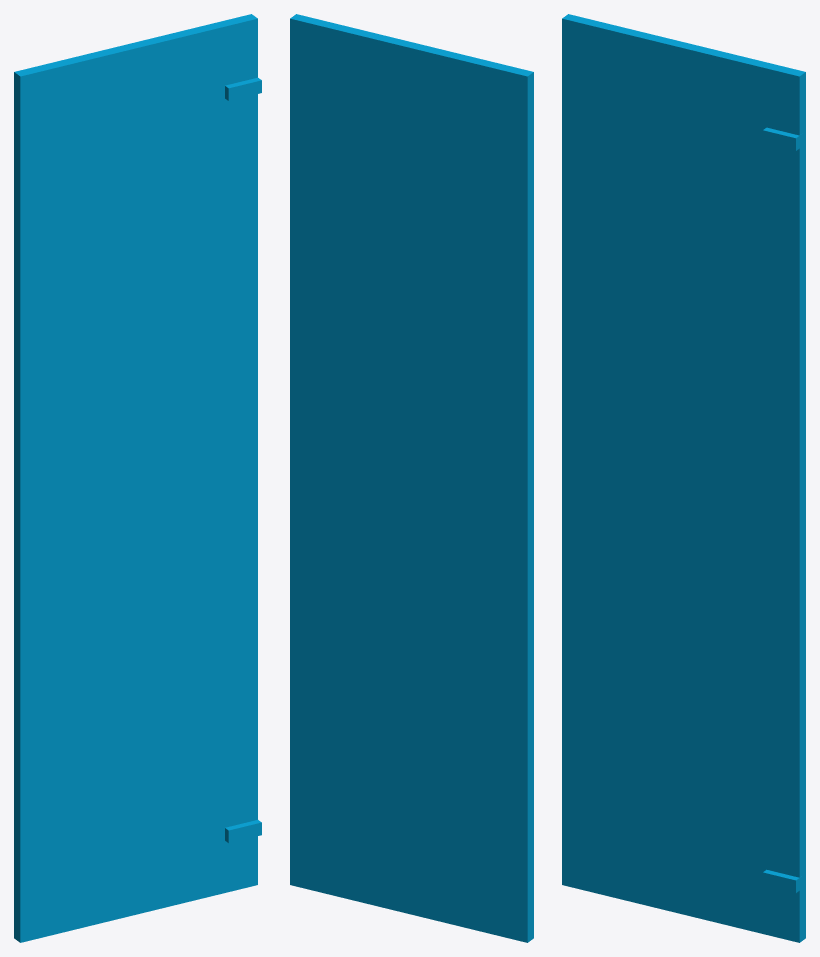
File: Bedroom_Cupboard_01_DoorA_Lod0.fbx
3 renders of one model, left to right at view 1: azimuth 30°, elevation 25°; view 2: azimuth 150°, elevation 25°; view 3: azimuth 330°, elevation 25°, orthographic.
Parts seen in each view (by area): view 1: Bedroom_Cupboard_01_DoorA_Lod0; view 2: Bedroom_Cupboard_01_DoorA_Lod0; view 3: Bedroom_Cupboard_01_DoorA_Lod0.
Boxes of the visible parts, left/top/right/bottom form: Bedroom_Cupboard_01_DoorA_Lod0: left=14, top=14, right=261, bottom=942; Bedroom_Cupboard_01_DoorA_Lod0: left=290, top=14, right=533, bottom=942; Bedroom_Cupboard_01_DoorA_Lod0: left=562, top=14, right=805, bottom=942.
Bounding box in the file's own units: 58.86 × 205 × 4.29.
